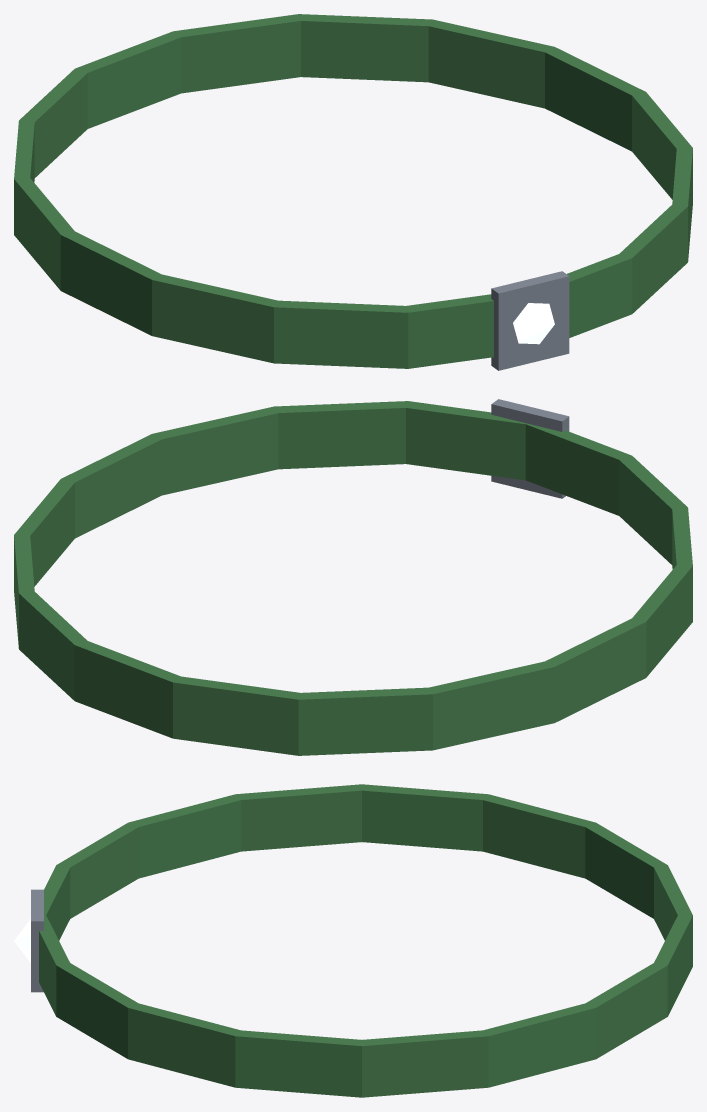
The model's file is armor_guard_head_uncommon_human.glb.
The picture shows the model from 3 angles, top to bottom: view 1: azimuth 30°, elevation 25°; view 2: azimuth 150°, elevation 25°; view 3: azimuth 270°, elevation 25°; orthographic projection. The views are drawn at different scales.
Parts seen in each view (by area): view 1: armor_guard_head_uncommon_human__head; view 2: armor_guard_head_uncommon_human__head; view 3: armor_guard_head_uncommon_human__head.
Part boxes in pixels (<box>): armor_guard_head_uncommon_human__head: <box>14,14,692,370</box>; armor_guard_head_uncommon_human__head: <box>14,399,692,755</box>; armor_guard_head_uncommon_human__head: <box>14,784,692,1097</box>.
Bounding box in the file's own units: 57.79 × 7.3 × 63.3.
